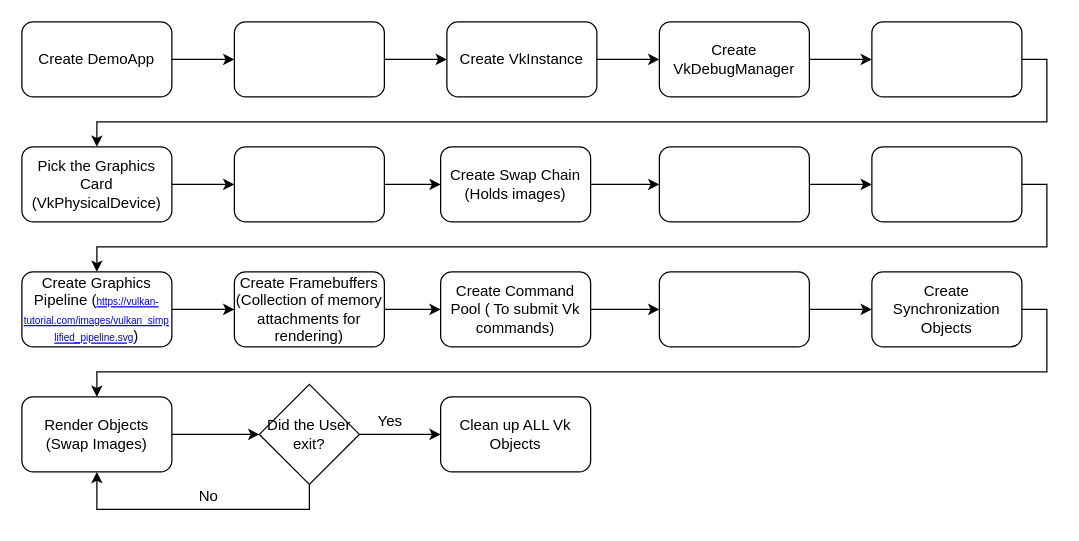
This 1079x541 diagram has some shape labels left out. Here are the shapes that lost their labels. From the top down, the centre of each, then its label:
At (x=308, y=59): "Initialize GLFW".
At (x=946, y=59): "Create VkSurface (window)".
At (x=308, y=184): "Create Logical Device (interface)".
At (x=733, y=184): "Create Image Views (literally, how Vk treats image)".
At (x=946, y=184): "Create RenderPass (specify information needed for rendering)".
At (x=733, y=309): "Create Command Buffers (Hold Vk commands)".
